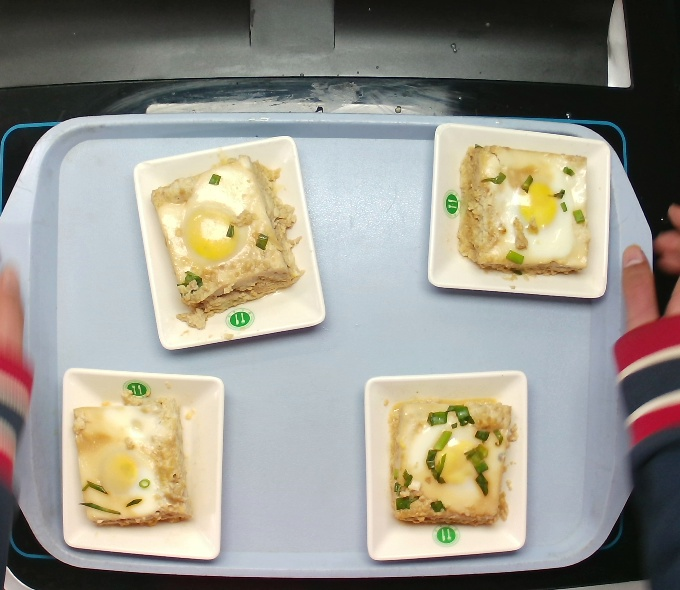wcq-RouMoZhengDan: (153, 152, 303, 333), (446, 139, 610, 288), (379, 384, 515, 548), (66, 386, 199, 546)
